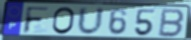5: (133, 8, 156, 38)
6: (108, 8, 129, 36)
B: (157, 8, 186, 39)
F: (22, 6, 51, 35)
O: (50, 6, 76, 36)
U: (76, 6, 106, 37)
